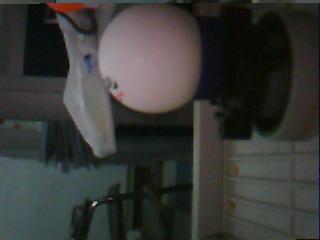oball: (47, 2, 85, 13)
